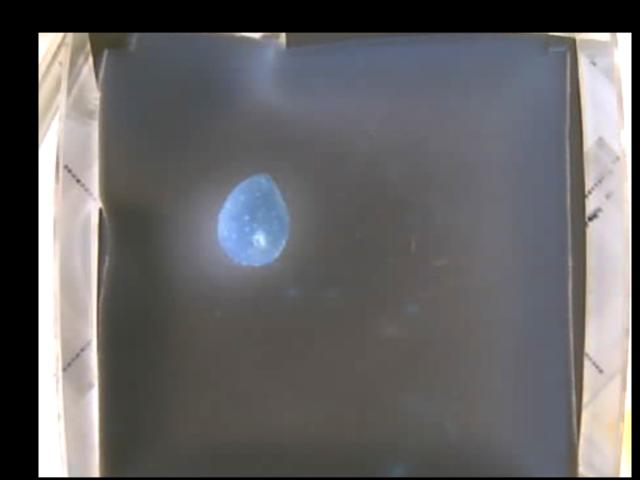Potato: (219, 175, 288, 266)
